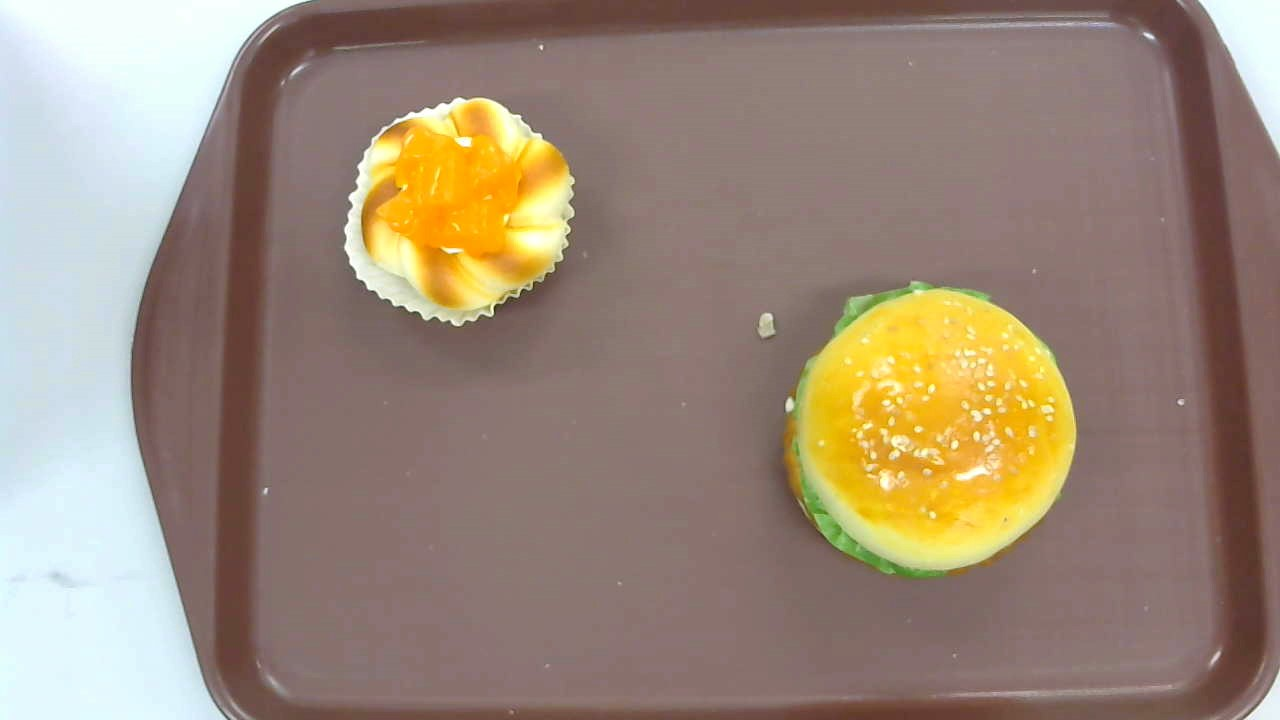hamburger: (783, 280, 1078, 579)
mango tart: (343, 94, 577, 328)
